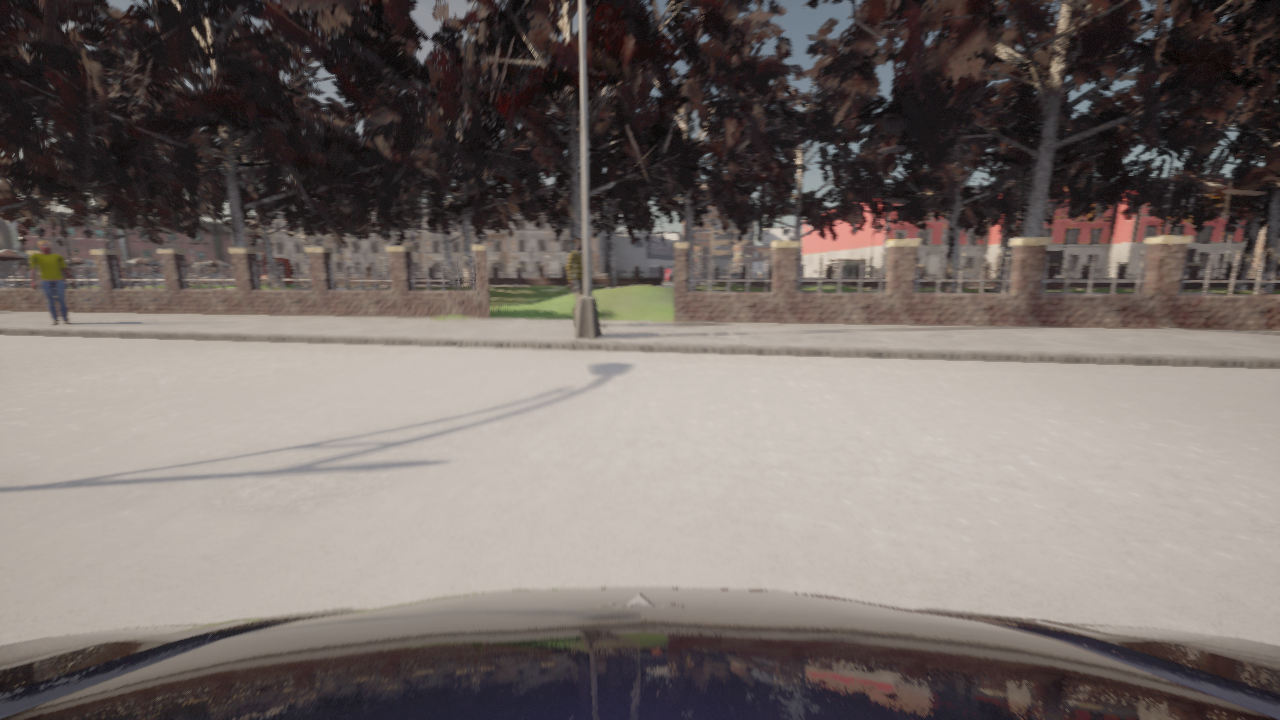cyclist: (0, 588, 1279, 719)
pedestrian: (29, 240, 75, 325), (566, 237, 583, 326)
